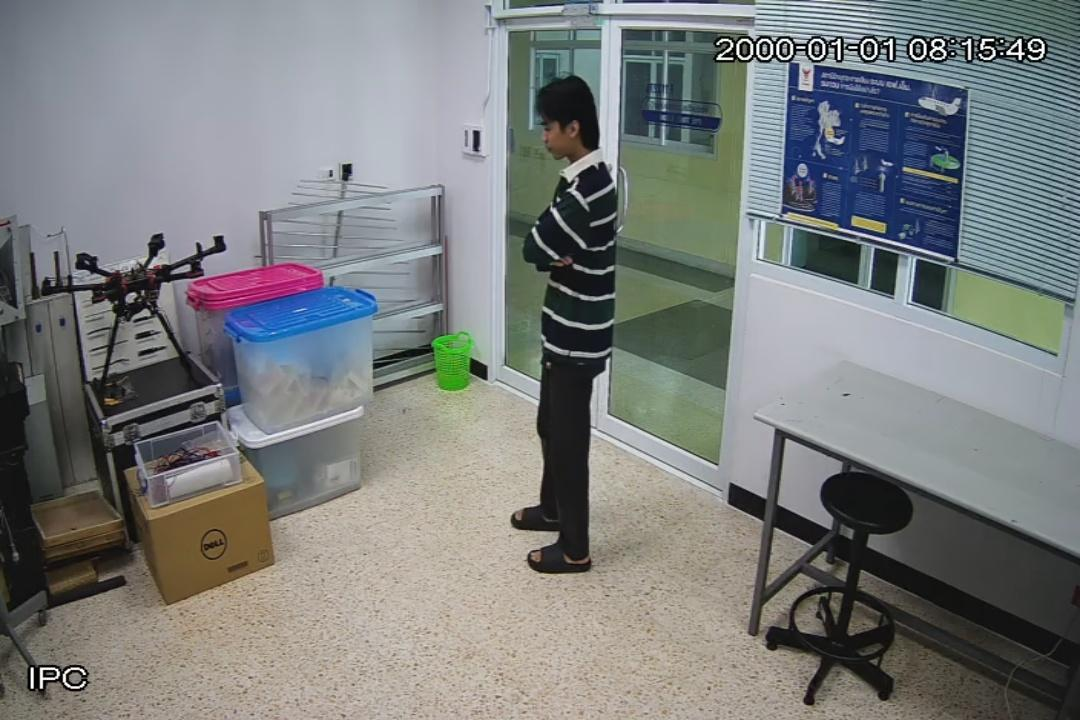normal: (511, 73, 624, 576)
